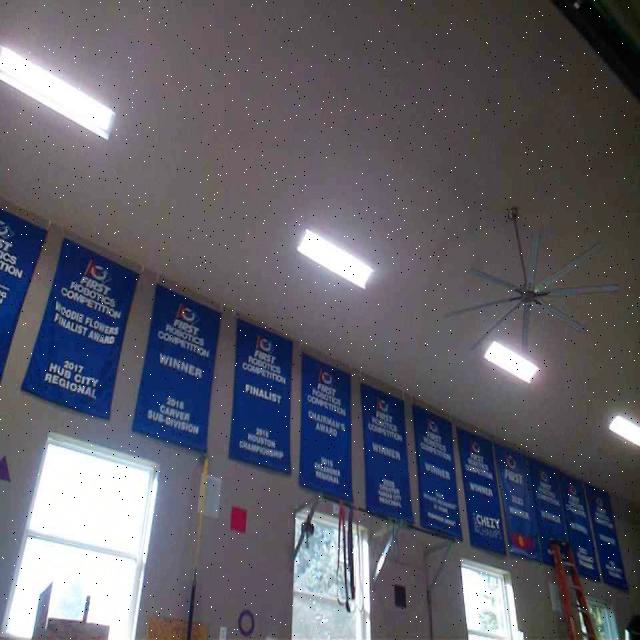ring_purple: (238, 608, 253, 635)
square_black: (393, 584, 406, 606)
square_red: (228, 505, 247, 533)
